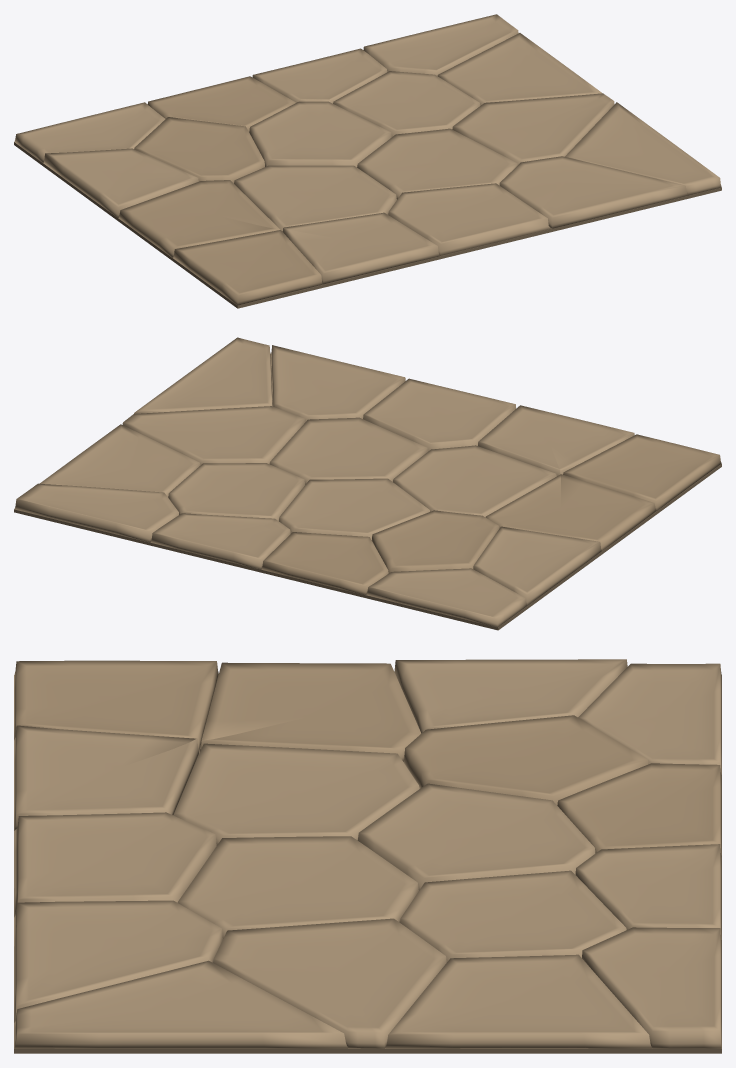
Rendered from desiccation-crack-surface.glb.
The picture shows the model from 3 angles, top to bottom: view 1: azimuth 30°, elevation 25°; view 2: azimuth 150°, elevation 25°; view 3: azimuth 270°, elevation 25°; orthographic projection. The views are drawn at different scales.
Visible parts, largest first — view 1: interlocking-drying-mud-plates-and-raised-edges, continuous-mud-base-below-real-crack-floors; view 2: interlocking-drying-mud-plates-and-raised-edges, continuous-mud-base-below-real-crack-floors; view 3: interlocking-drying-mud-plates-and-raised-edges, continuous-mud-base-below-real-crack-floors.
Boxes of the visible parts, x1,y1,x2,y2 form: interlocking-drying-mud-plates-and-raised-edges: (14,14,721,305); continuous-mud-base-below-real-crack-floors: (14,142,721,308); interlocking-drying-mud-plates-and-raised-edges: (14,337,721,627); continuous-mud-base-below-real-crack-floors: (14,354,721,630); interlocking-drying-mud-plates-and-raised-edges: (14,659,721,1048); continuous-mud-base-below-real-crack-floors: (14,675,721,1053).
Size of the model in its own units: 1.2 by 0.0326 by 0.96.
